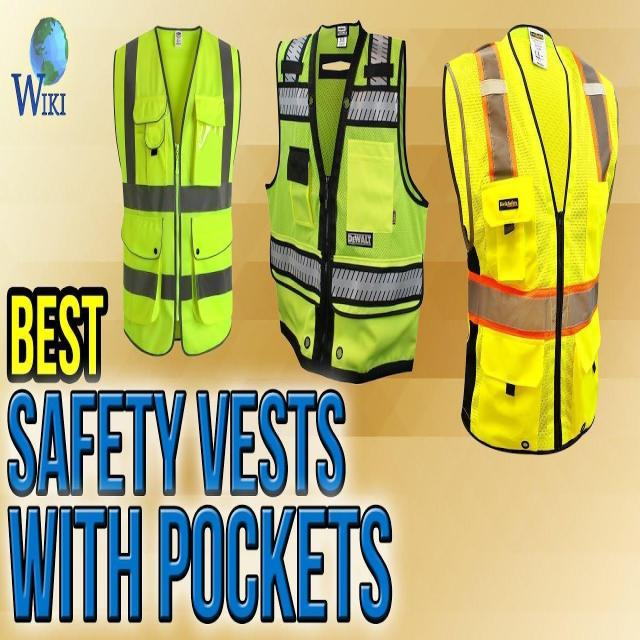Vest: (441, 18, 619, 458), (265, 20, 429, 384), (109, 21, 241, 358)
